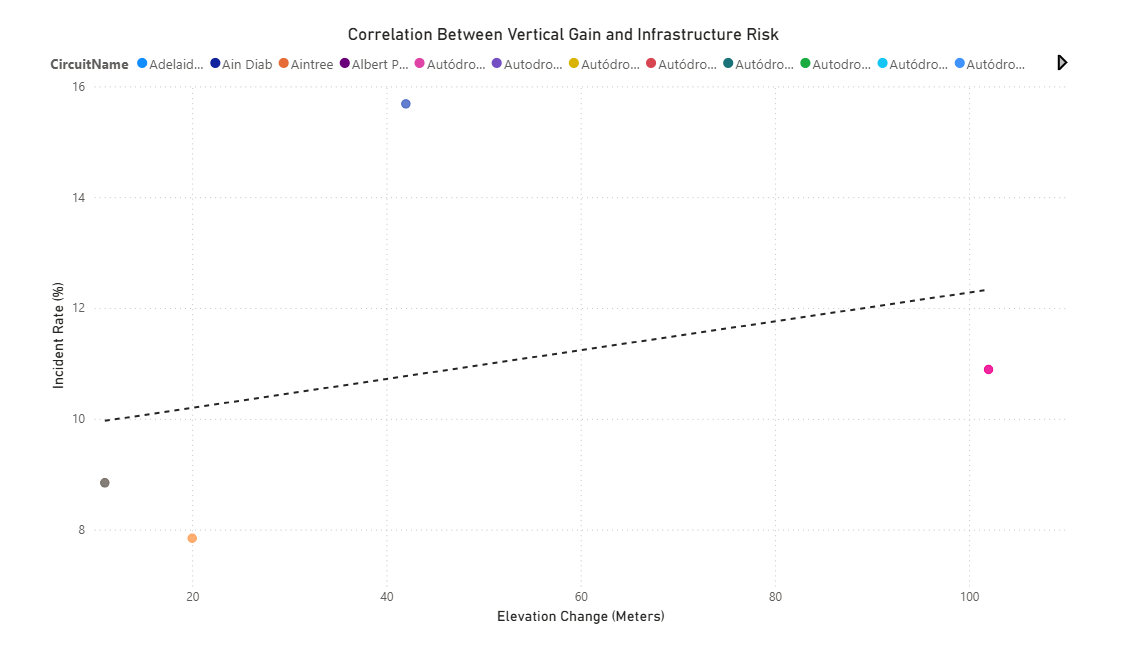

Layout of this report page (visuals, bound fields, positions):
{"tool":"powerbi","page":{"name":"Page 3","canvas":[1280,720],"ordinal":2},"visuals":[{"type":"scatterChart","title":"Correlation Between Vertical Gain and Infrastructure Risk","fields":{"X":["v_F1_Safety_Audit.elevation_change_m"],"Y":["v_F1_Safety_Audit.IncidentRate"],"Series":["v_F1_Safety_Audit.CircuitName"]},"box":[145,47.5,1031.2,602.5],"z":0}]}

Visuals, with their boxes on the page's 1280x720 design canvas (x1, y1, x2, y2). These are canvas units, not pixel positions in the 1127x667 screenshot, which may show the page scaled, cropped or inside an application window:
"Correlation Between Vertical Gain and Infrastructure Risk" scatterChart: box=[145, 48, 1176, 650]
